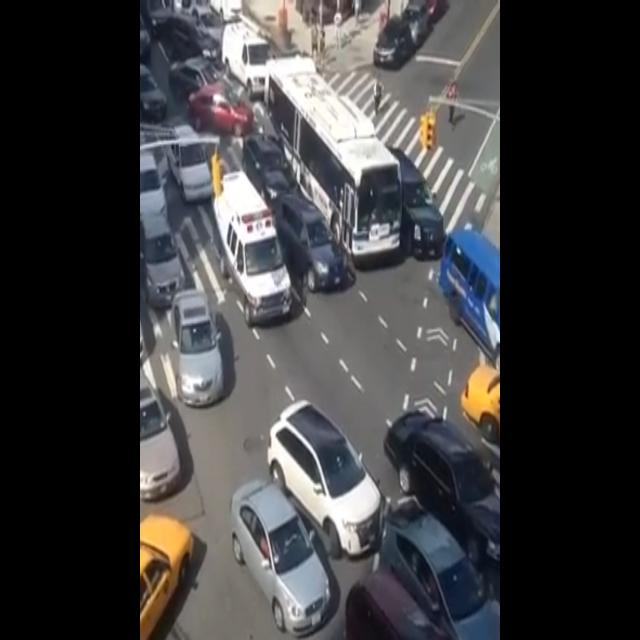Ambulance: (214, 169, 295, 325)
